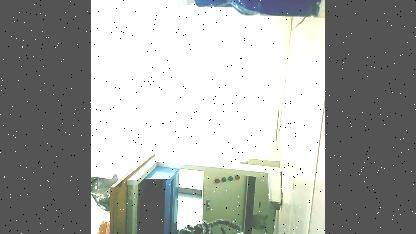Plastic Bottle: (169, 0, 325, 20)
